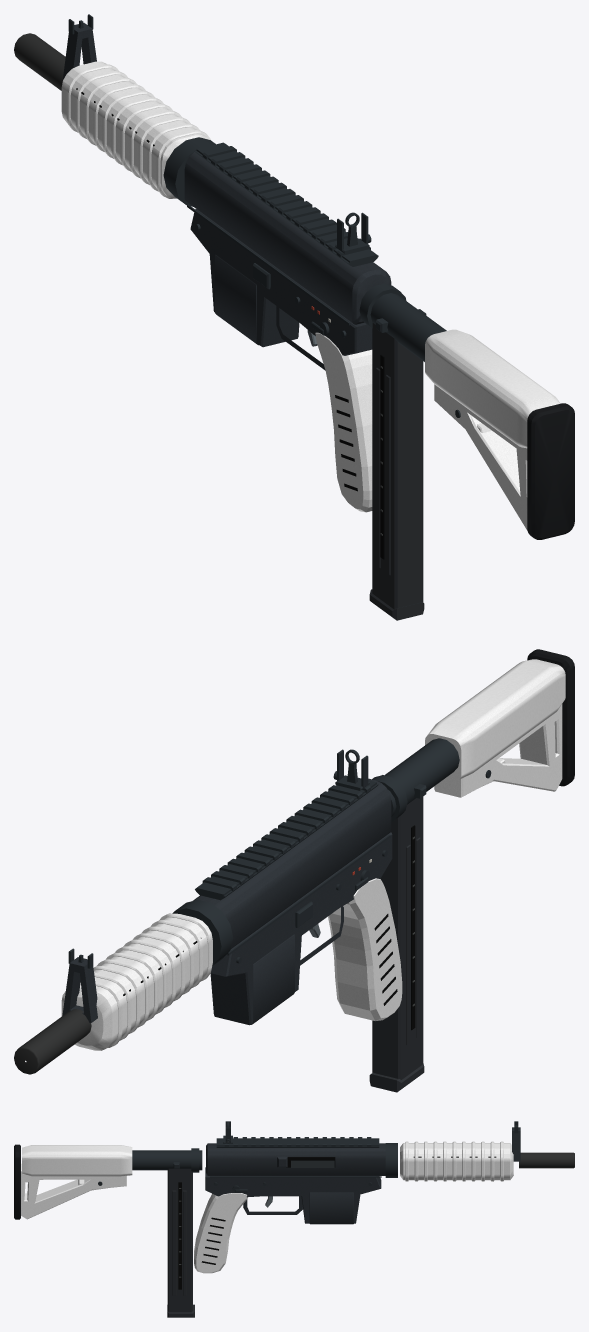
The model's file is weapon-82-BcDPnH8w.glb.
The picture shows the model from 3 angles, top to bottom: view 1: azimuth 30°, elevation 25°; view 2: azimuth 150°, elevation 25°; view 3: azimuth 270°, elevation 25°; orthographic projection. The views are drawn at different scales.
Visible parts, largest first — view 1: salient_weapon_body, salient_weapon_stock, salient_weapon_magazine, salient_weapon_iron; view 2: salient_weapon_body, salient_weapon_stock, salient_weapon_magazine, salient_weapon_iron; view 3: salient_weapon_body, salient_weapon_stock, salient_weapon_magazine, salient_weapon_iron.
Boxes of the visible parts, x1,y1,x2,y2 form: salient_weapon_body: (14,33,391,512); salient_weapon_stock: (359,283,574,539); salient_weapon_magazine: (369,323,424,620); salient_weapon_iron: (62,14,371,253); salient_weapon_body: (14,777,402,1074); salient_weapon_stock: (372,649,574,822); salient_weapon_magazine: (369,796,424,1092); salient_weapon_iron: (62,749,369,1022); salient_weapon_body: (194,1137,574,1273); salient_weapon_stock: (14,1144,202,1219); salient_weapon_magazine: (167,1168,194,1317); salient_weapon_iron: (223,1121,520,1161).
Bounding box in the file's own units: 0.04 × 0.2385 × 0.631.
19 materials, 4 textured.
